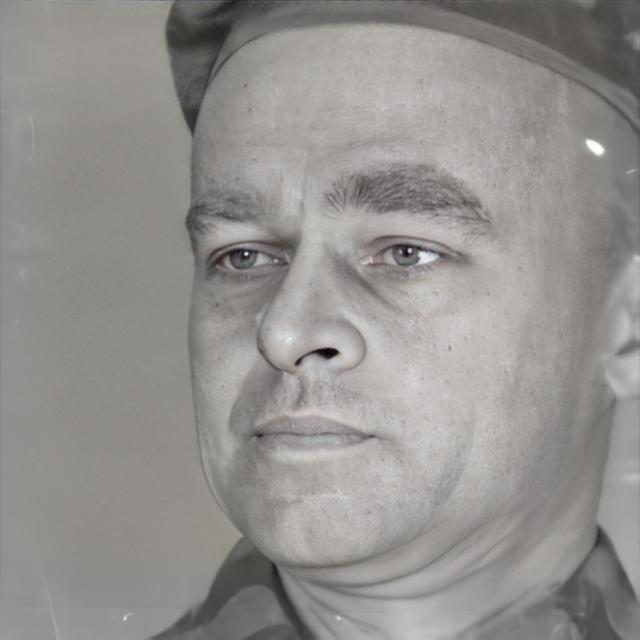sad: (182, 21, 594, 572)
